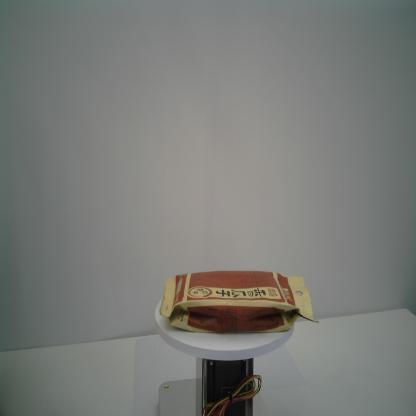Dried Food: (159, 270, 319, 336)
